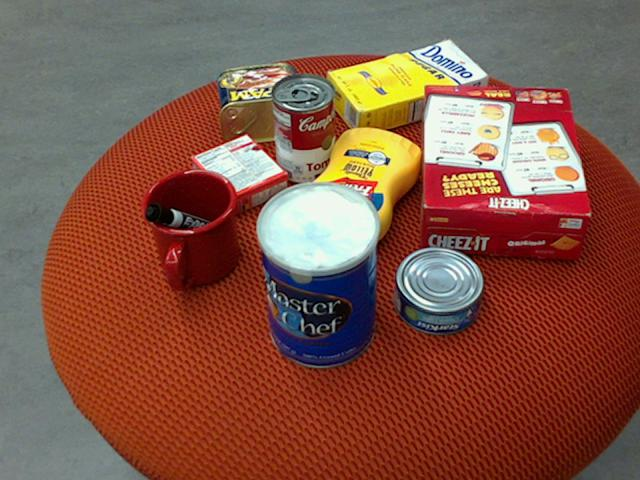cracker_box: (419, 83, 592, 257)
gelatin_box: (189, 132, 286, 217)
large_marker: (143, 203, 229, 243)
master_chef_can: (253, 183, 376, 369)
mug: (138, 169, 239, 290)
mustard_bottle: (298, 127, 423, 270)
potted_meat_can: (218, 62, 310, 144)
sugar_box: (326, 39, 489, 136)
tomato_soup_can: (271, 71, 335, 183)
tuna_fish_can: (394, 246, 485, 335)
